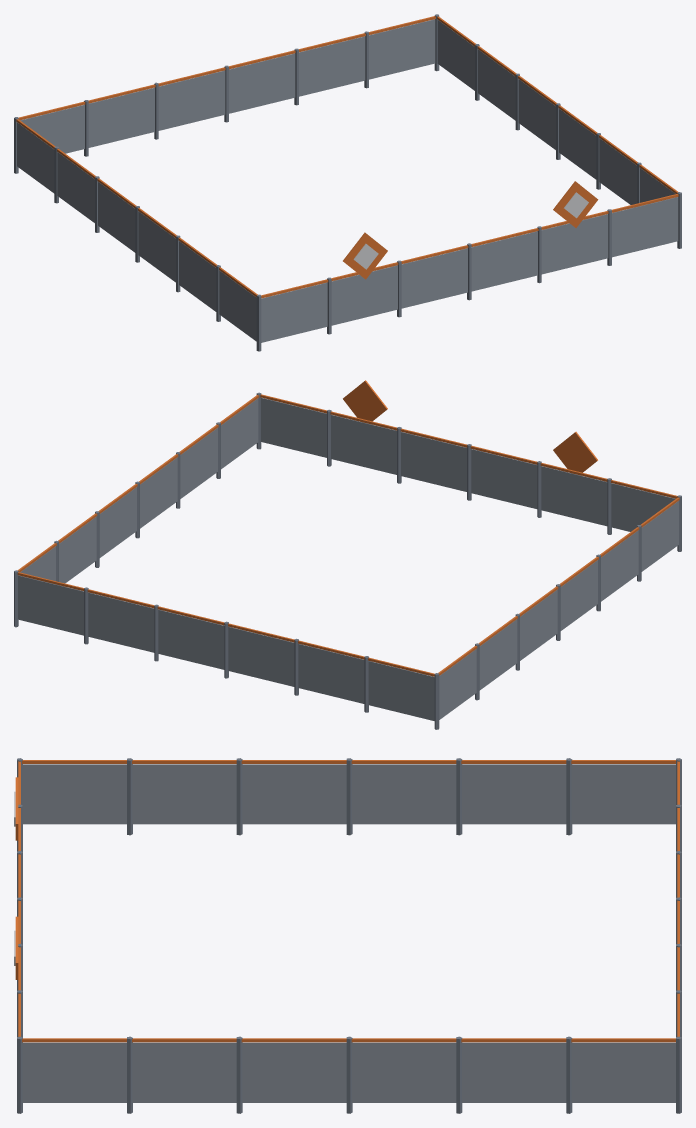
The model's file is imo_fence.glb.
3 renders of one model, top to bottom at view 1: azimuth 30°, elevation 25°; view 2: azimuth 150°, elevation 25°; view 3: azimuth 270°, elevation 25°, orthographic. The views are drawn at different scales.
Visible parts, largest first — view 1: imo_fence; view 2: imo_fence; view 3: imo_fence.
Boxes of the visible parts, x1,y1,x2,y2 form: imo_fence: [14, 14, 681, 351]; imo_fence: [14, 380, 681, 729]; imo_fence: [14, 758, 681, 1113].
Size of the model in its own units: 12.11 by 2.54 by 12.16.
